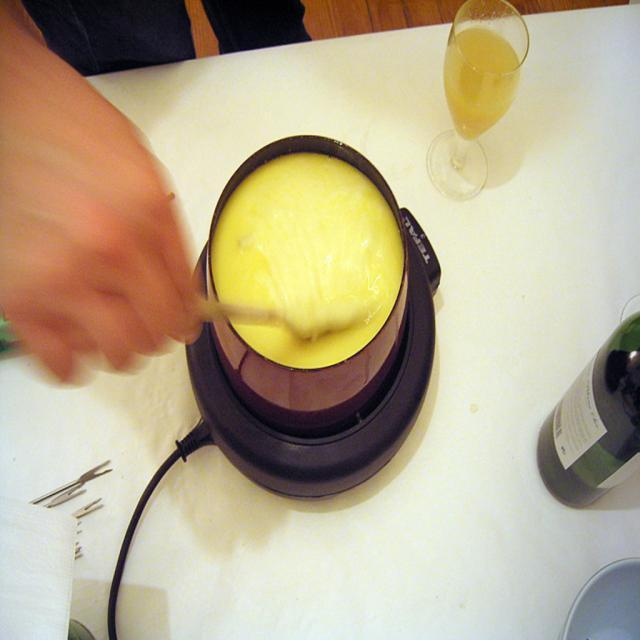Juice: (440, 13, 526, 147)
